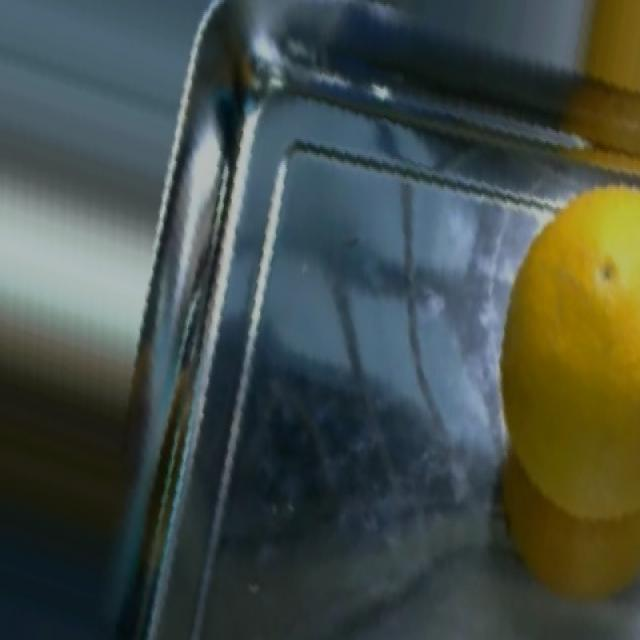Fruit: (497, 171, 640, 485), (561, 2, 640, 137)
